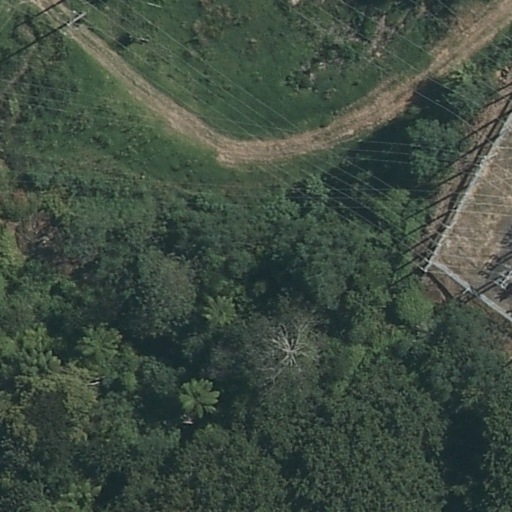DT: (60, 12, 85, 30)
